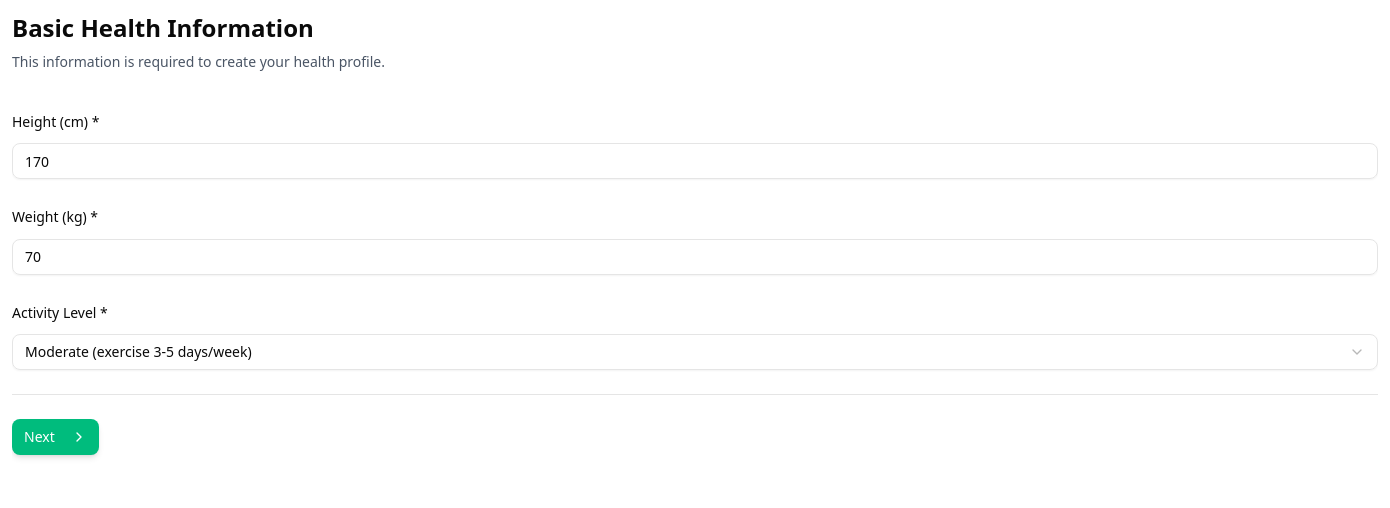
Step1ProfileForm › validates maximum height
Type "350" into the number field with placeholder "170" below "Height (cm) *" at (695, 161), box [12, 143, 1378, 179]
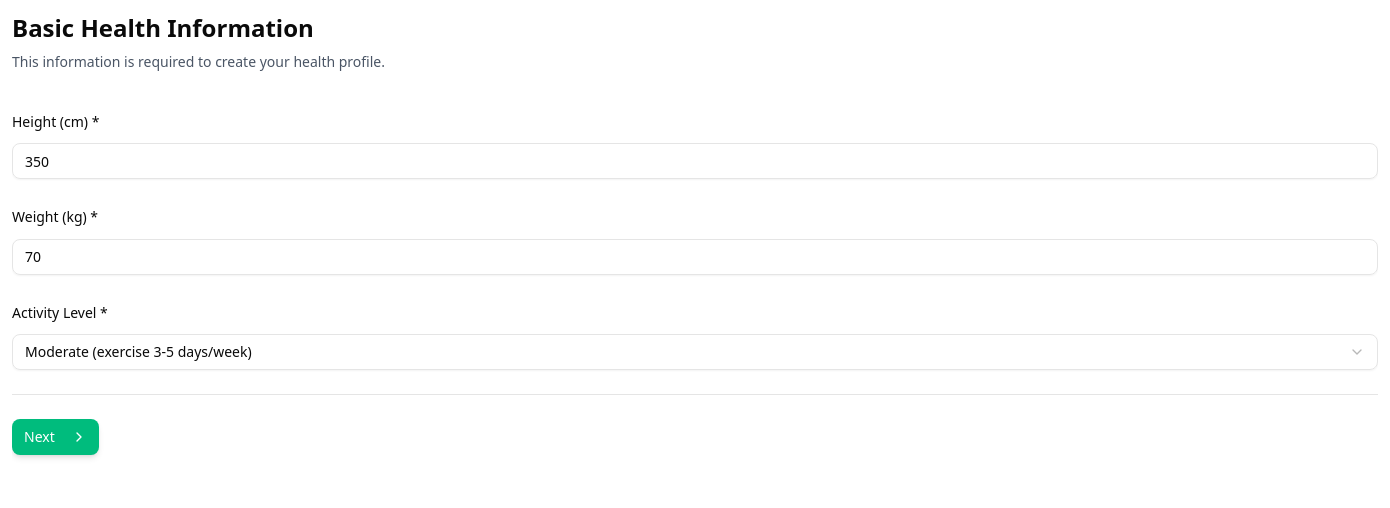
Click the button "Next" at (55, 437), box [12, 419, 99, 455]
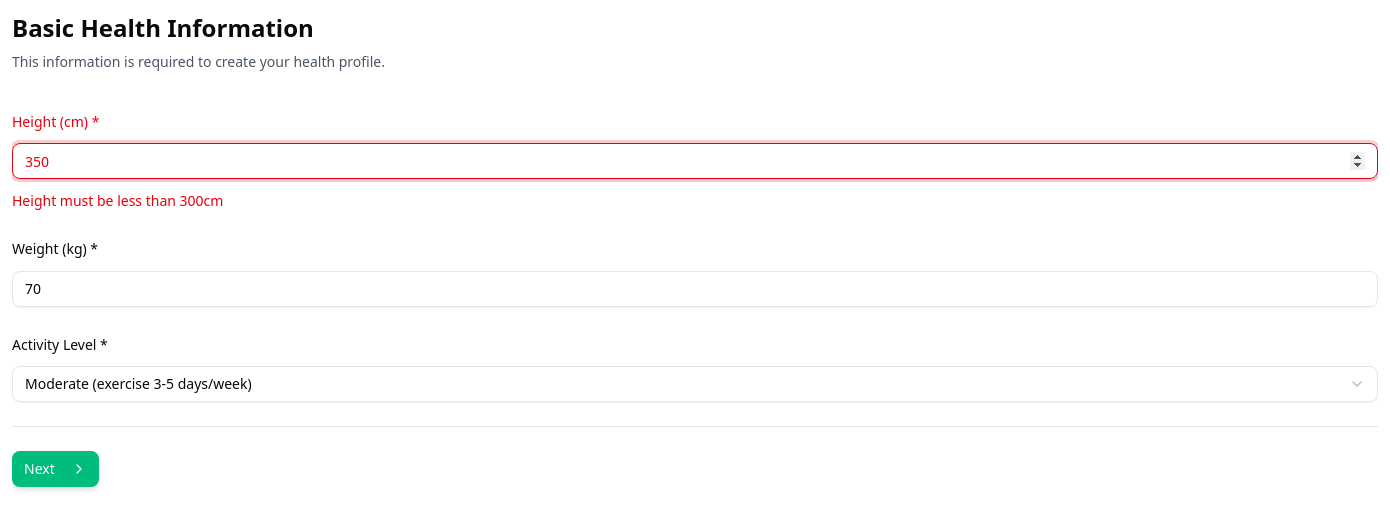
Expected: the text "Height must be less than 300cm" is shown, [12, 191, 223, 210]
